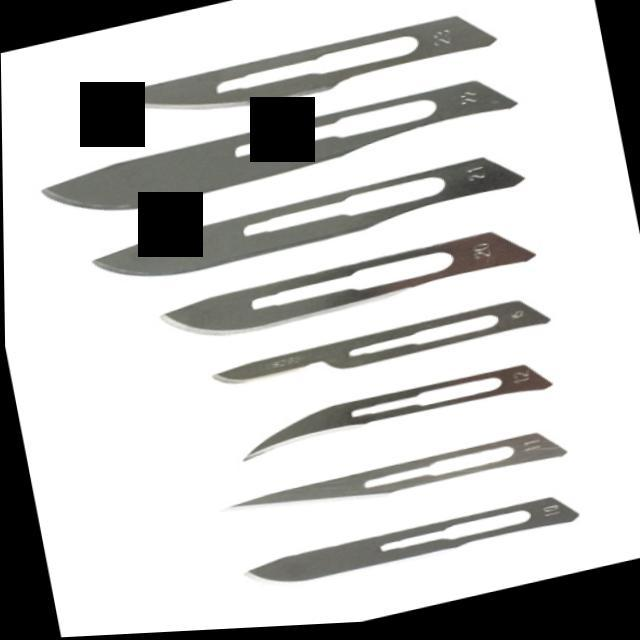Surgical blade: (30, 72, 522, 231), (72, 146, 533, 302), (97, 6, 507, 148), (158, 218, 540, 358), (201, 287, 552, 414), (233, 480, 584, 604), (212, 428, 568, 540), (225, 358, 560, 472)
